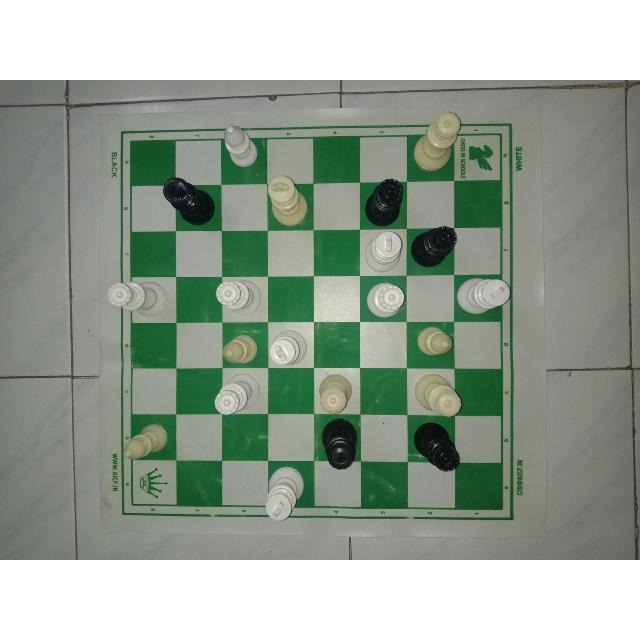black-king: (157, 175, 214, 229)
black-queen: (410, 419, 464, 479), (315, 418, 363, 474), (360, 174, 405, 232), (407, 223, 459, 270)
white-bishop: (118, 416, 178, 464), (220, 117, 261, 172), (412, 322, 458, 367), (217, 323, 262, 367)
white-king: (457, 270, 518, 320), (264, 171, 312, 226), (261, 469, 304, 527), (360, 232, 410, 278), (265, 325, 309, 369)
white-queen: (412, 108, 466, 174), (105, 276, 177, 323), (361, 277, 411, 325), (417, 372, 463, 421), (215, 376, 265, 420), (313, 371, 357, 417), (214, 278, 262, 315)
